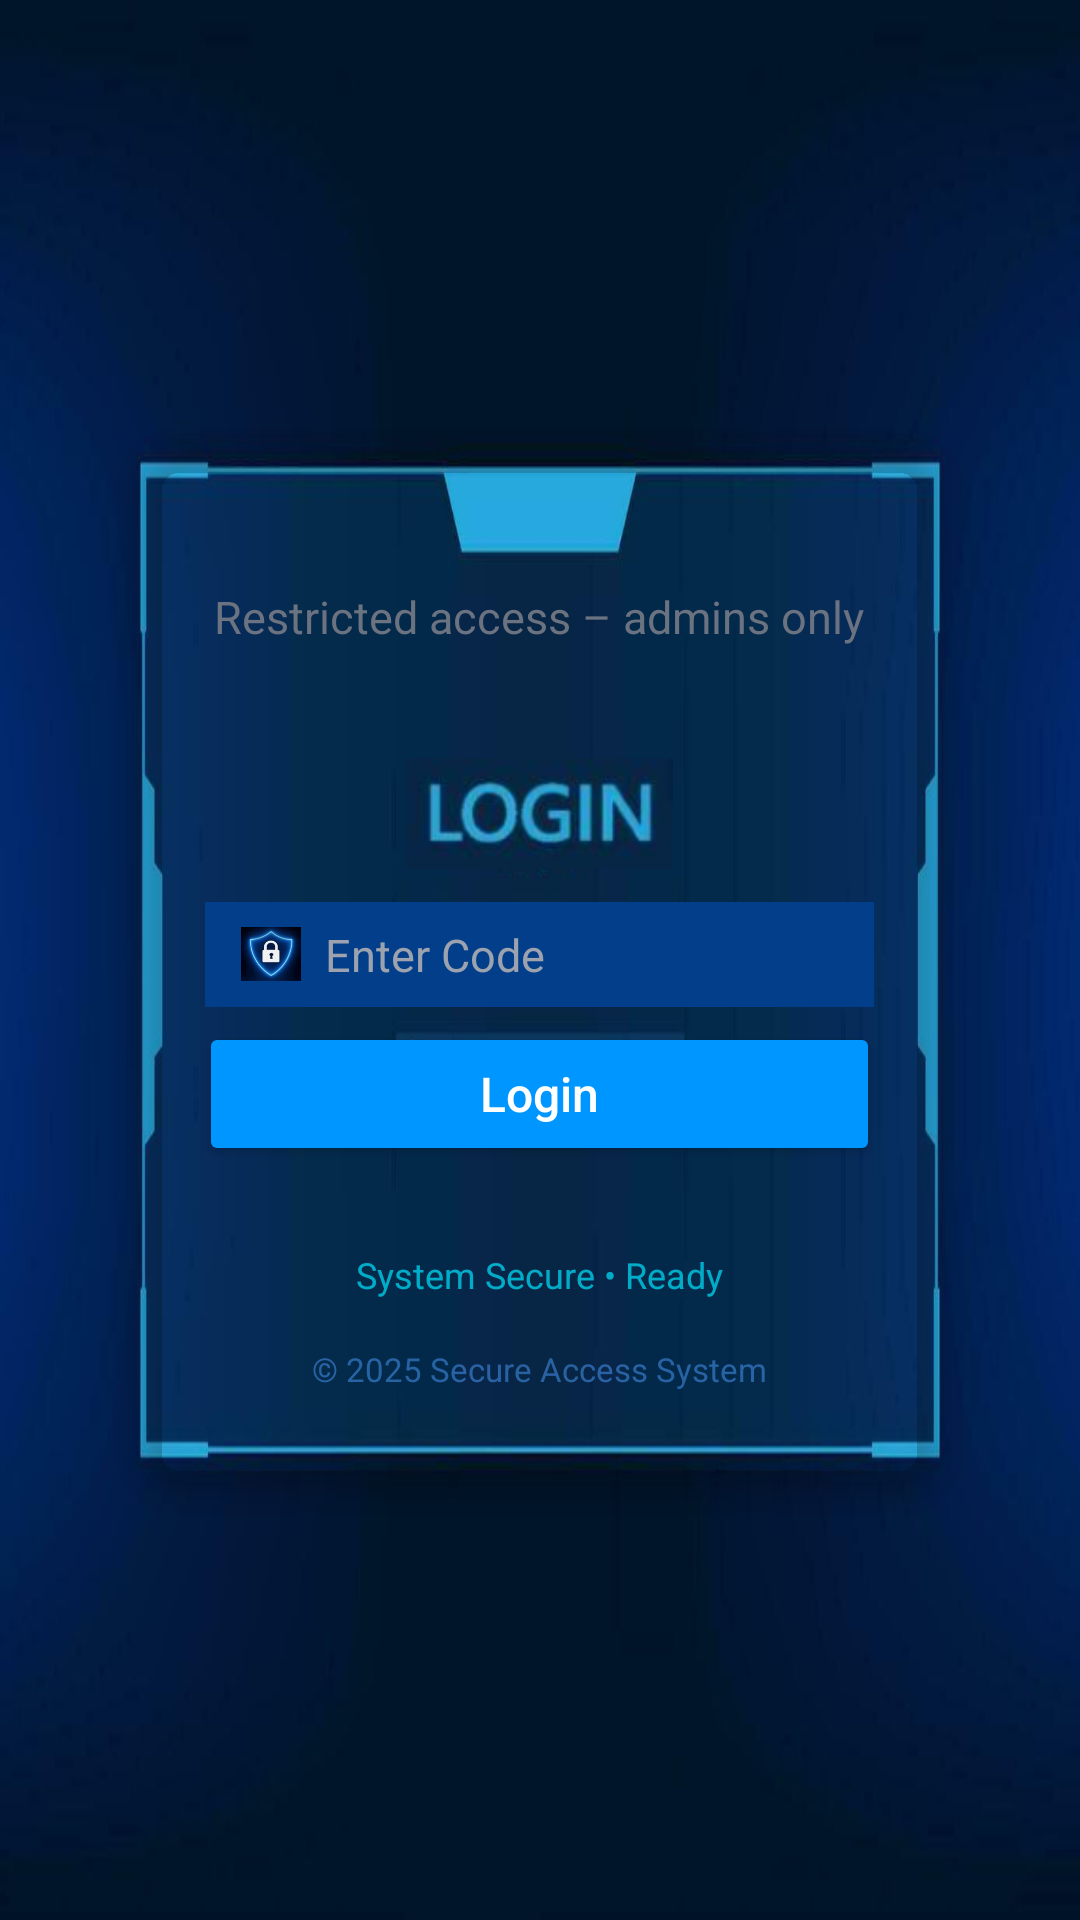

Icon bounding boxes for this 1080w x 1920h phone screenshot, format bbox=(x1, y1, x2, y2):
lock: bbox=(241, 927, 301, 981)
